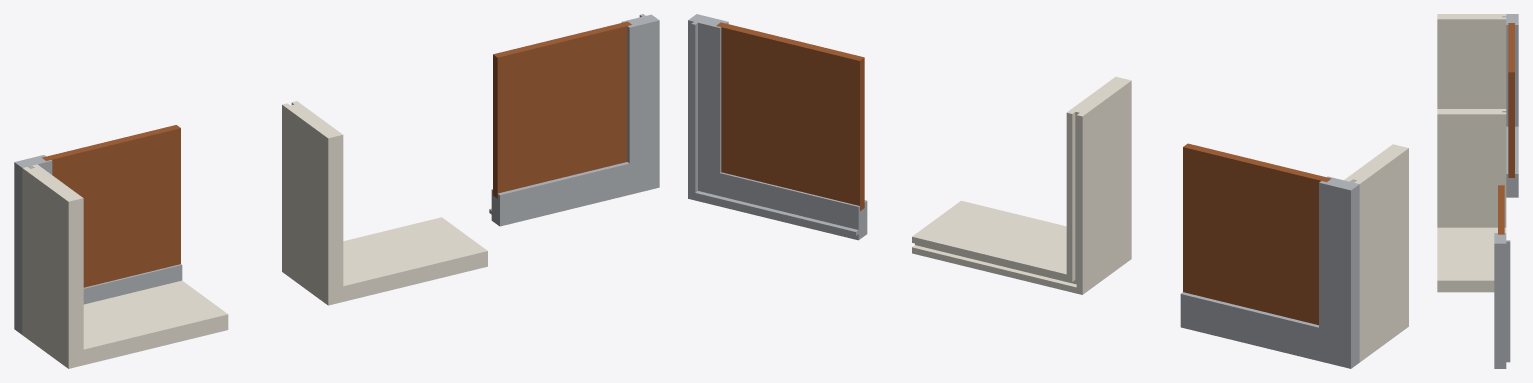
File: 1A_groove_and_lip.glb
3 renders of one model, left to right at view 1: azimuth 30°, elevation 25°; view 2: azimuth 150°, elevation 25°; view 3: azimuth 270°, elevation 25°, orthographic. The views are drawn at different scales.
Parts seen in each view (by area): view 1: opened/leather, assembled/body, opened/body, assembled/leather, opened/frame_with_lip, assembled/frame_with_lip; view 2: opened/leather, opened/body, assembled/leather, assembled/frame_with_lip, opened/frame_with_lip, assembled/body; view 3: opened/body, assembled/body, opened/frame_with_lip, assembled/frame_with_lip, assembled/leather, opened/leather.
Part boxes in pixels (x1,y1,x2,y2): opened/leather: [493, 21, 631, 198]; assembled/body: [22, 164, 228, 368]; opened/body: [282, 101, 487, 305]; assembled/leather: [42, 125, 180, 287]; opened/frame_with_lip: [489, 14, 659, 226]; assembled/frame_with_lip: [14, 155, 182, 334]; opened/leather: [716, 22, 864, 211]; opened/body: [912, 76, 1131, 294]; assembled/leather: [1183, 143, 1331, 325]; assembled/frame_with_lip: [1180, 176, 1359, 368]; opened/frame_with_lip: [688, 14, 867, 240]; assembled/body: [1344, 144, 1408, 362]; opened/body: [1437, 109, 1506, 292]; assembled/body: [1437, 14, 1506, 108]; opened/frame_with_lip: [1494, 233, 1510, 368]; assembled/frame_with_lip: [1502, 14, 1518, 197]; assembled/leather: [1508, 23, 1514, 177]; opened/leather: [1498, 185, 1504, 234].
Size of the model in its own units: 0.63 by 0.16 by 0.094.
